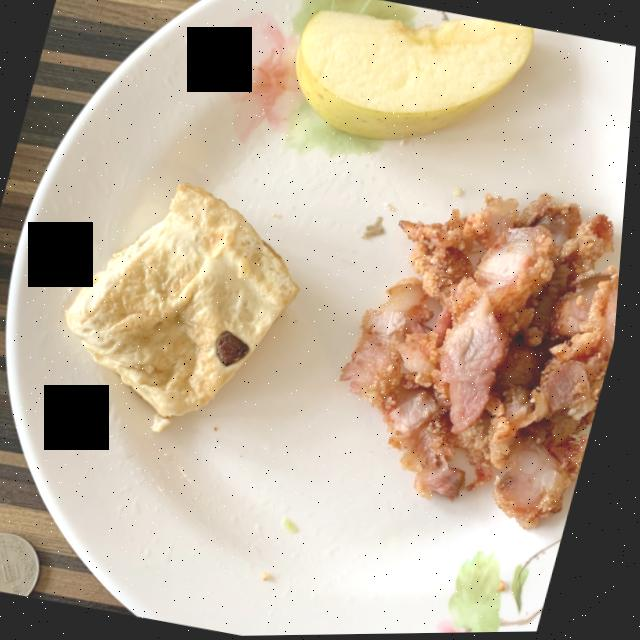apple -sliced-: (297, 12, 535, 142)
coin: (0, 533, 48, 597)
red grilled pork: (346, 197, 623, 529)
